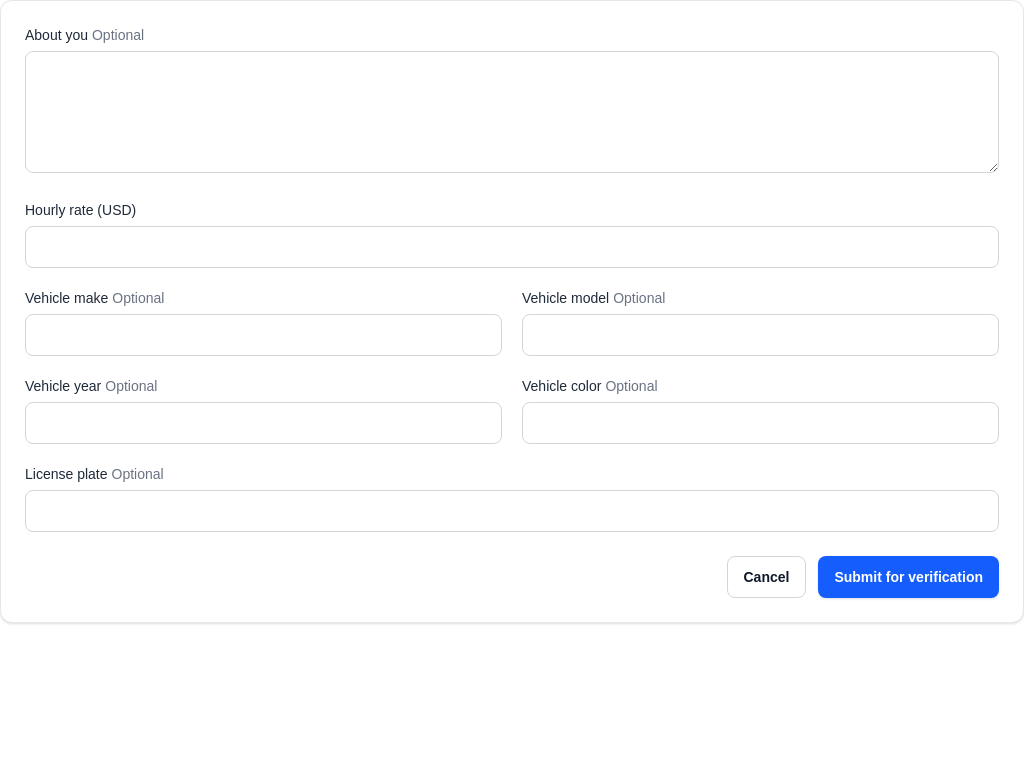
Scenario: CaregiverForm › exposes validation errors accessibly
The width and height of the screenshot is (1024, 768).
Submit the form
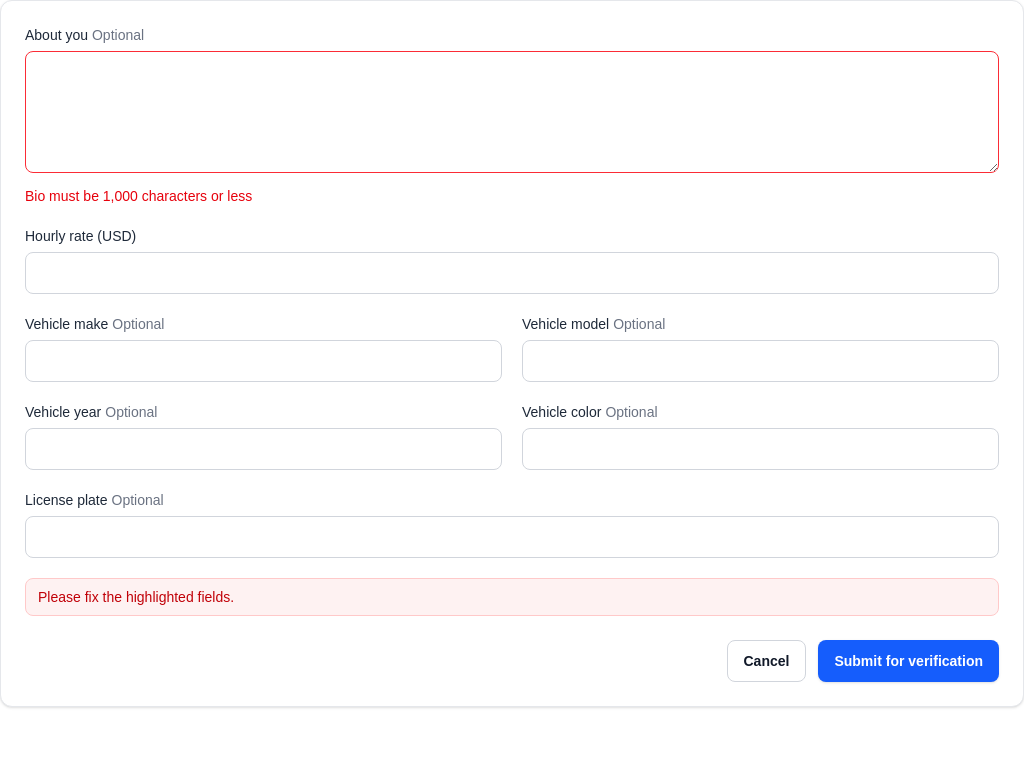
Now the text "Bio must be 1,000 characters or less" is shown, box [25, 188, 252, 204]
In the text box labelled "About you": (512, 112) [25, 51, 999, 173], type "Updated bio"
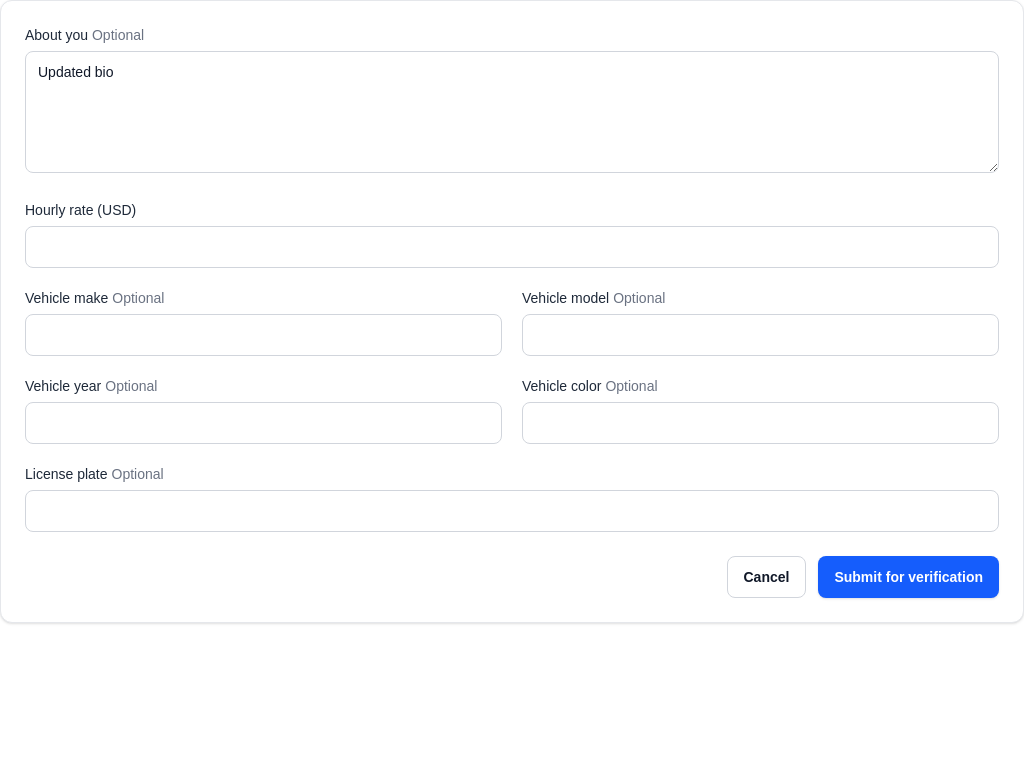
Now the text "Bio must be 1,000 characters or less" is gone
Now the text "Please fix the highlighted fields." is gone
